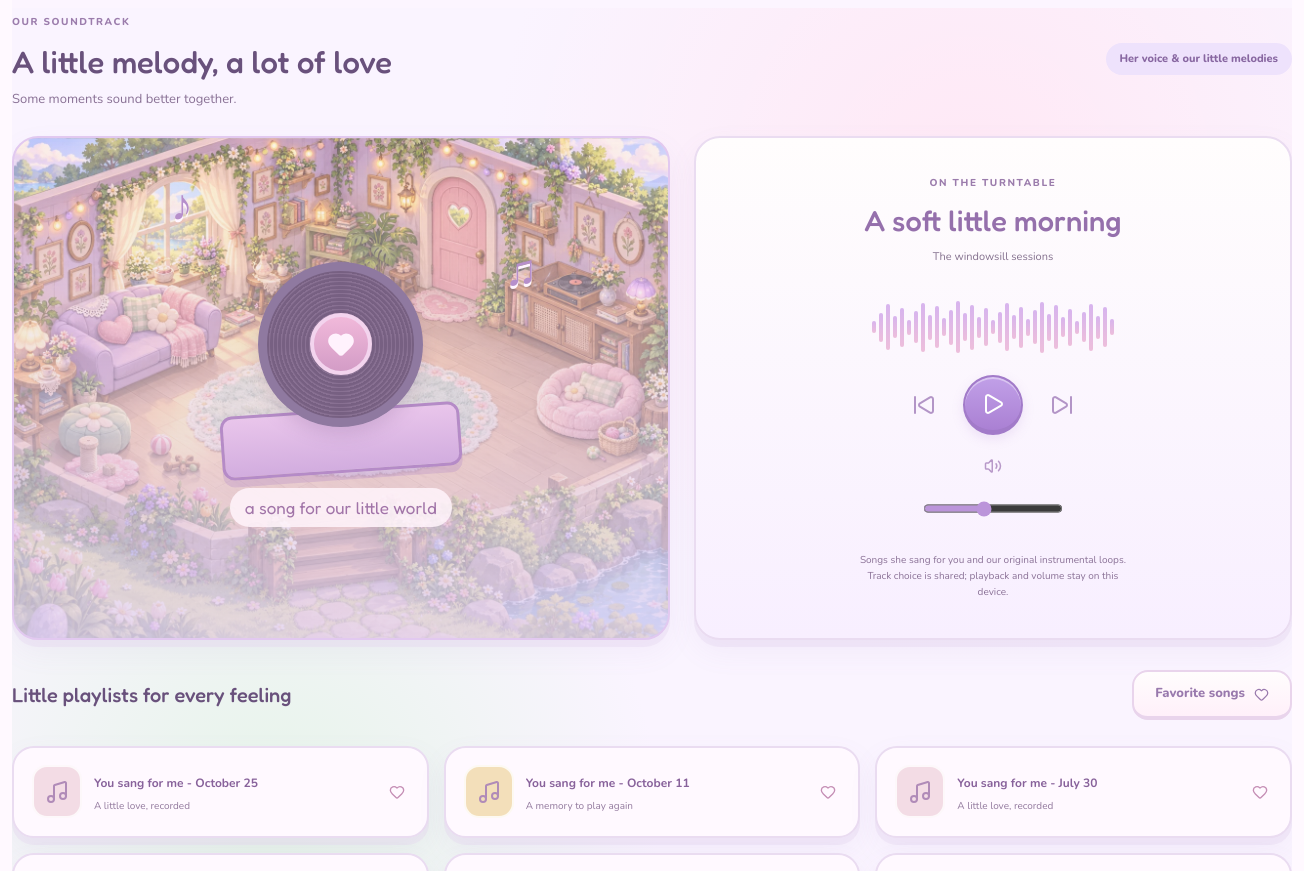
Scenario: little rooms › resumes the newly selected melody while playing
Click the button named "Play". click: x=993, y=405
box: [963, 375, 1023, 435]
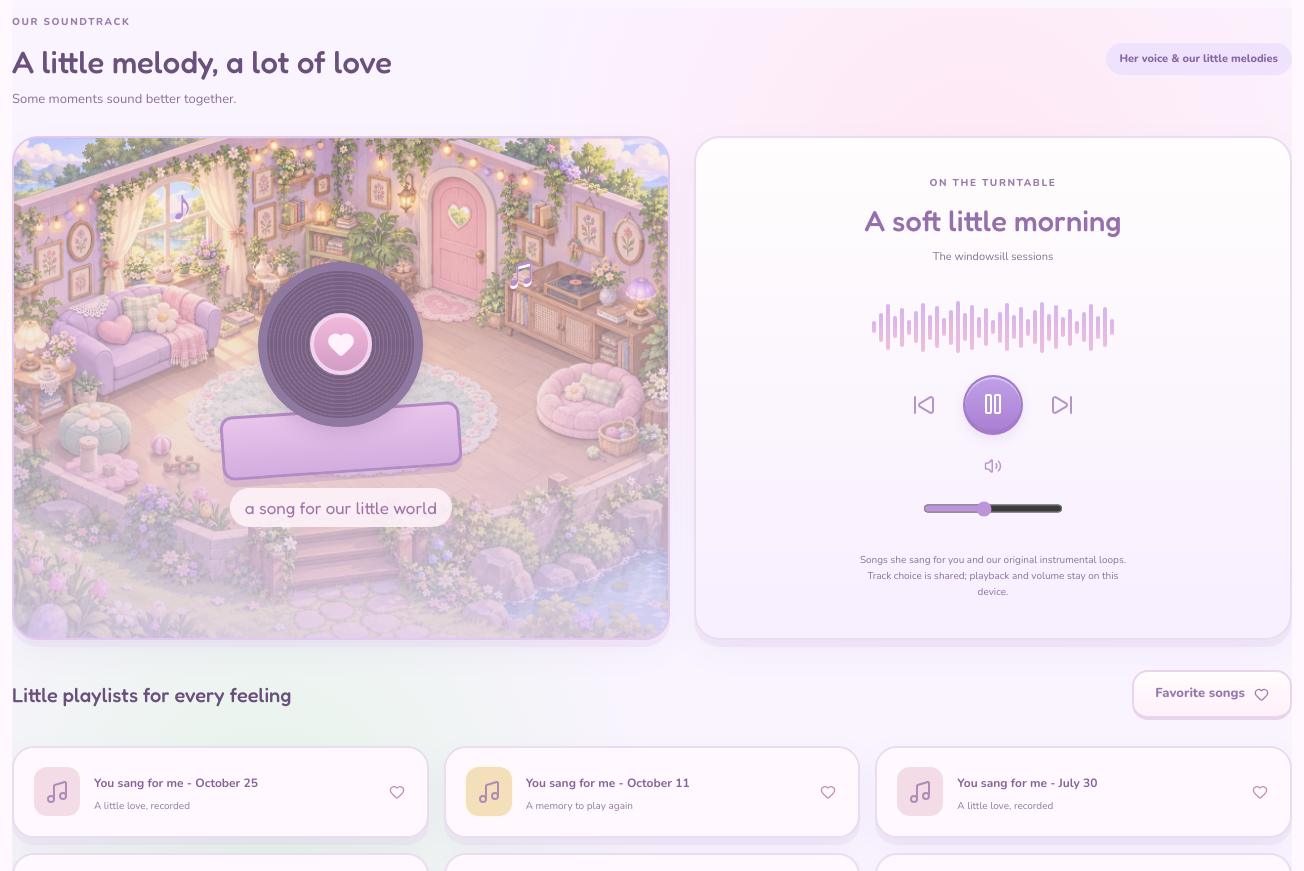
Now the button named "Pause" is shown, box [963, 375, 1023, 435]
